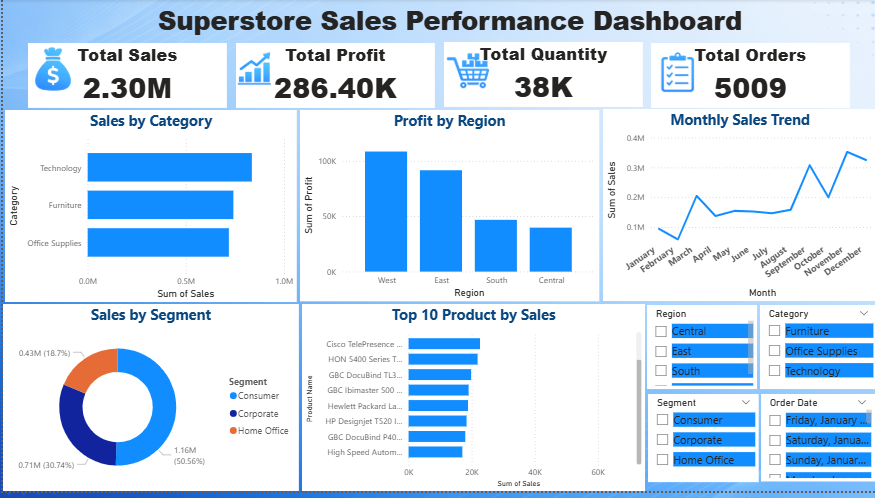

The dashboard page shown, as its layout file describes it:
{"tool":"powerbi","page":{"name":"Page 1","canvas":[1280,720],"ordinal":0},"visuals":[{"type":"textbox","box":[181.5,0,932.2,64.4],"z":0},{"type":"card","title":"Total Sales","fields":{"Values":["Sum(Sample - Superstore.Sales)"]},"box":[36,64.4,291.2,95.1],"z":0,"group":"g1"},{"type":"group","id":"g1","title":"Group 1","box":[33.1,62.9,1205.9,96.7],"z":1000},{"type":"image","box":[33.1,64.4,79,75.1],"z":1000,"group":"g1"},{"type":"clusteredBarChart","title":"Sales by Category","fields":{"Category":["Sample - Superstore.Category"],"Y":["Sum(Sample - Superstore.Sales)"]},"box":[3.1,161.3,427.3,281],"z":1000,"group":"g2"},{"type":"donutChart","title":"Sales by Segment","fields":{"Category":["Sample - Superstore.Segment"],"Y":["Sum(Sample - Superstore.Sales)"]},"box":[0,446.3,432.7,273.7],"z":1000,"group":"g3"},{"type":"image","box":[336.6,54.1,64.4,95.1],"z":2000},{"type":"card","title":"Total Profit","fields":{"Values":["Sum(Sample - Superstore.Profit)"]},"box":[340.4,64.4,291.2,95.1],"z":2000,"group":"g1"},{"type":"clusteredBarChart","title":"Top 10 Product by Sales","fields":{"Category":["Sample - Superstore.Product Name"],"Y":["Sum(Sample - Superstore.Sales)"]},"box":[437.2,446.3,502.2,273.7],"z":2000,"group":"g3"},{"type":"card","title":"Total Quantity","fields":{"Values":["Sum(Sample - Superstore.Quantity)"]},"box":[644.8,62.9,291.2,95.1],"z":3000,"group":"g1"},{"type":"image","box":[957.1,64.4,61.5,84.9],"z":3000},{"type":"clusteredColumnChart","title":"Profit by Region","fields":{"Category":["Sample - Superstore.Region"],"Y":["Sum(Sample - Superstore.Profit)"]},"box":[434.8,162,437.6,279.5],"z":3000,"group":"g2"},{"type":"slicer","fields":{"Values":["Sample - Superstore.Region"]},"box":[942.3,447.8,161.5,123.2],"z":3000,"group":"g3"},{"type":"image","box":[643.9,62.9,77.6,84.9],"z":4000},{"type":"card","title":"Total Orders","fields":{"Values":["Sample - Superstore.Total Orders"]},"box":[947.7,64.4,291.2,95.1],"z":4000,"group":"g1"},{"type":"lineChart","title":"Monthly Sales Trend","fields":{"Category":["Sample - Superstore.Order Date.Variation.Date Hierarchy.Month"],"Y":["Sum(Sample - Superstore.Sales)"]},"box":[878.5,160.5,401,281],"z":4000,"group":"g2"},{"type":"slicer","fields":{"Values":["Sample - Superstore.Category"]},"box":[1107.7,447.8,171.3,123.2],"z":4000,"group":"g3"},{"type":"group","id":"g2","title":"Group 2","box":[3.1,160.5,1276.1,282.4],"z":5000},{"type":"slicer","fields":{"Values":["Sample - Superstore.Order Date"]},"box":[1109.2,578.3,166.9,128.2],"z":5000,"group":"g3"},{"type":"group","id":"g3","title":"Group 3","box":[0,446.3,1279,273.7],"z":6000},{"type":"slicer","fields":{"Values":["Sample - Superstore.Segment"]},"box":[943.8,578.3,162.5,129],"z":6000,"group":"g3"}]}

Visuals, with their boxes in screenshot pixels (x1, y1, x2, y2), scaled from the page's 1280x720 canvas onto the 875x498 screenshot:
textbox: [left=124, top=0, right=761, bottom=45]
"Total Sales" card: [left=25, top=45, right=224, bottom=110]
"Group 1" group: [left=23, top=44, right=847, bottom=110]
image: [left=23, top=45, right=77, bottom=96]
"Sales by Category" clusteredBarChart: [left=2, top=112, right=294, bottom=306]
"Sales by Segment" donutChart: [left=0, top=309, right=296, bottom=497]
image: [left=230, top=37, right=274, bottom=103]
"Total Profit" card: [left=233, top=45, right=432, bottom=110]
"Top 10 Product by Sales" clusteredBarChart: [left=299, top=309, right=642, bottom=497]
"Total Quantity" card: [left=441, top=44, right=640, bottom=109]
image: [left=654, top=45, right=696, bottom=103]
"Profit by Region" clusteredColumnChart: [left=297, top=112, right=596, bottom=305]
slicer - Sample - Superstore.Region: [left=644, top=310, right=755, bottom=395]
image: [left=440, top=44, right=493, bottom=102]
"Total Orders" card: [left=648, top=45, right=847, bottom=110]
"Monthly Sales Trend" lineChart: [left=601, top=111, right=874, bottom=305]
slicer - Sample - Superstore.Category: [left=757, top=310, right=874, bottom=395]
"Group 2" group: [left=2, top=111, right=874, bottom=306]
slicer - Sample - Superstore.Order Date: [left=758, top=400, right=872, bottom=489]
"Group 3" group: [left=0, top=309, right=874, bottom=497]
slicer - Sample - Superstore.Segment: [left=645, top=400, right=756, bottom=489]
